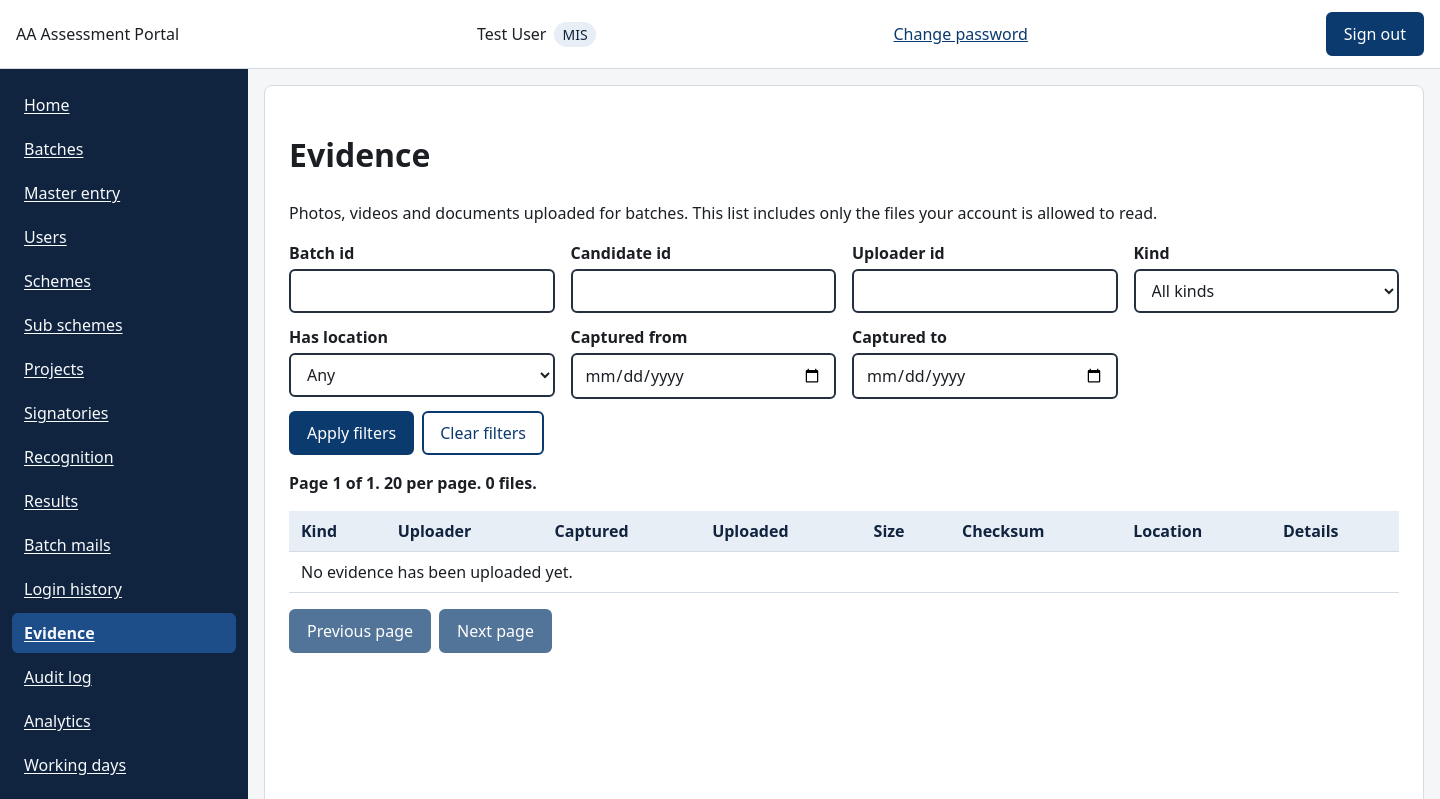
Test: shows an empty state, and a different one when filters are on
Check: the text "No evidence has been uploaded yet." is shown, box left=289, top=552, right=1399, bottom=592
Select "Video" in the dropdown labelled "Kind" at (1266, 291), box left=1134, top=269, right=1399, bottom=313
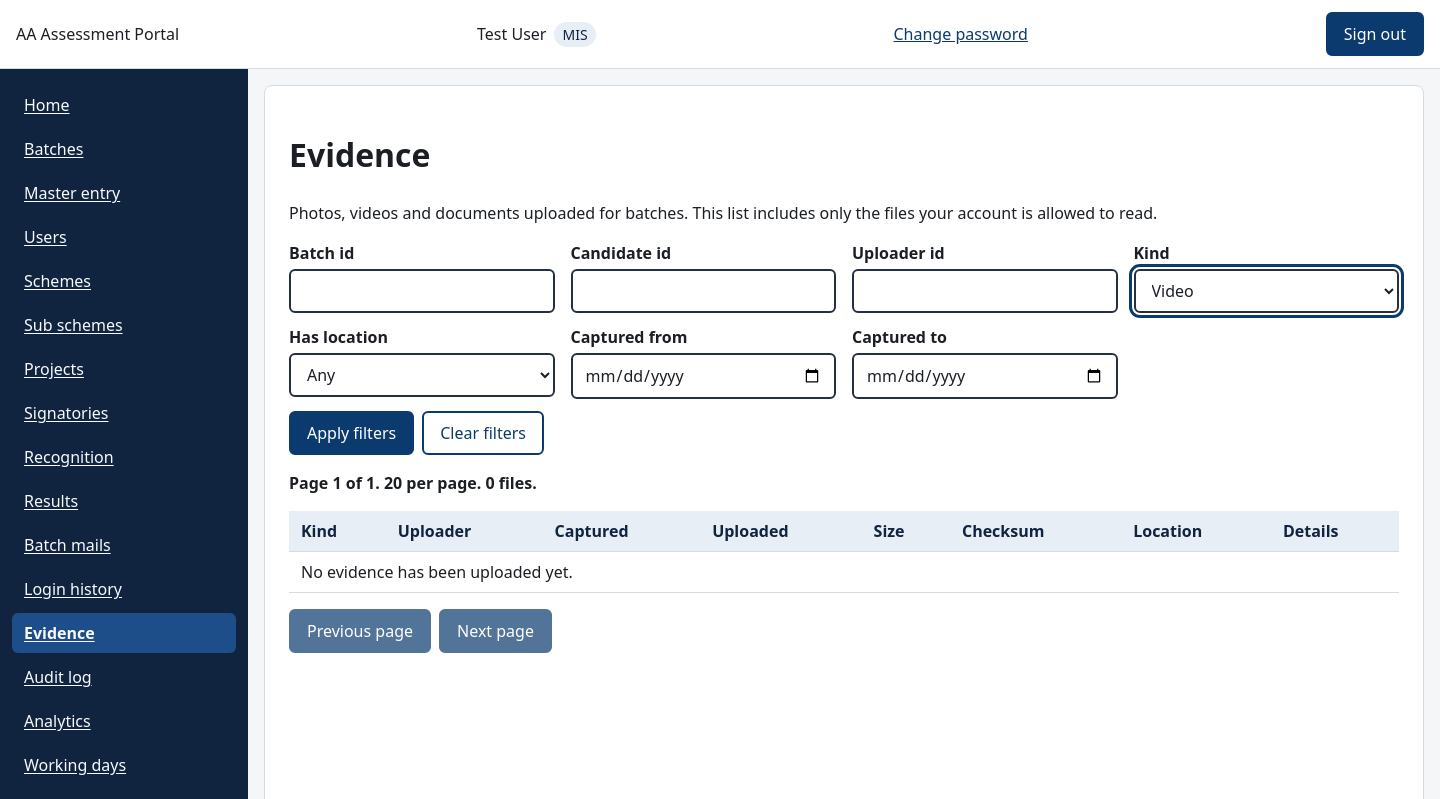
Click the button "Apply filters" at (352, 433), box left=289, top=411, right=414, bottom=455
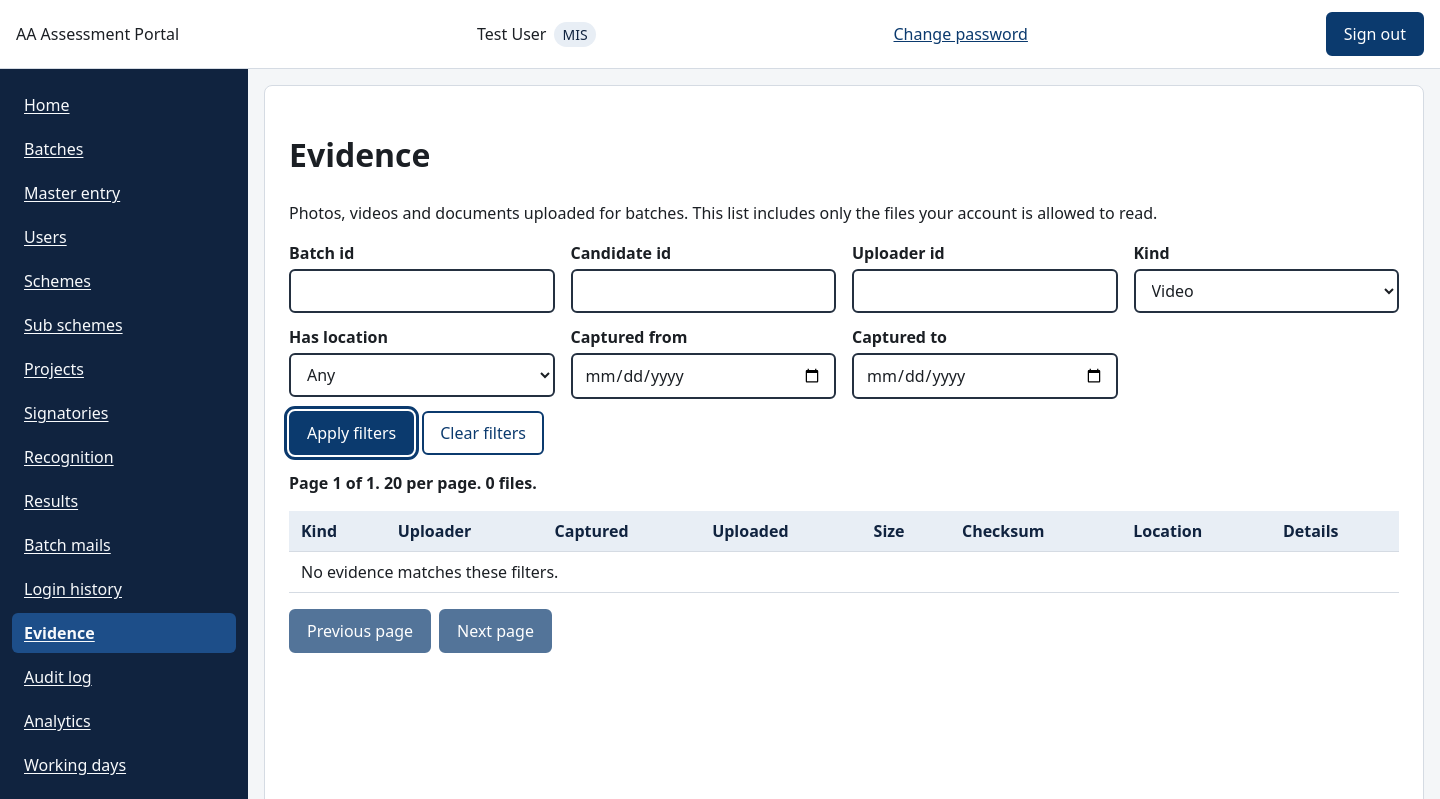
Check: the text "No evidence matches these filters." is shown, box left=289, top=552, right=1399, bottom=592
